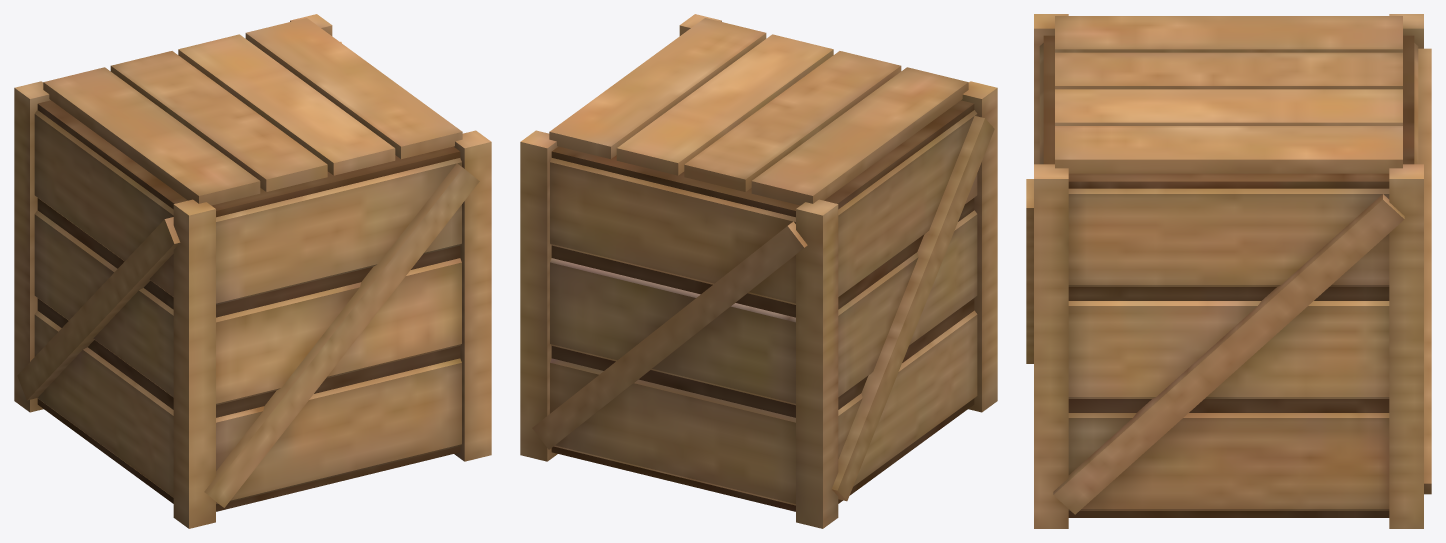
Rendered from crate_1.glb.
3 views of the same model, side by side, from view 1: azimuth 30°, elevation 25°; view 2: azimuth 150°, elevation 25°; view 3: azimuth 270°, elevation 25° (orthographic). The views are drawn at different scales.
Visible parts, largest first — view 1: box; view 2: box; view 3: box.
Part boxes in pixels (box(x1,y1,x2,y2)): box: box(14, 14, 491, 528); box: box(520, 14, 997, 528); box: box(1026, 14, 1431, 528).
Size of the model in its own units: 1.05 by 1.03 by 1.05.
1 material, 1 textured.
